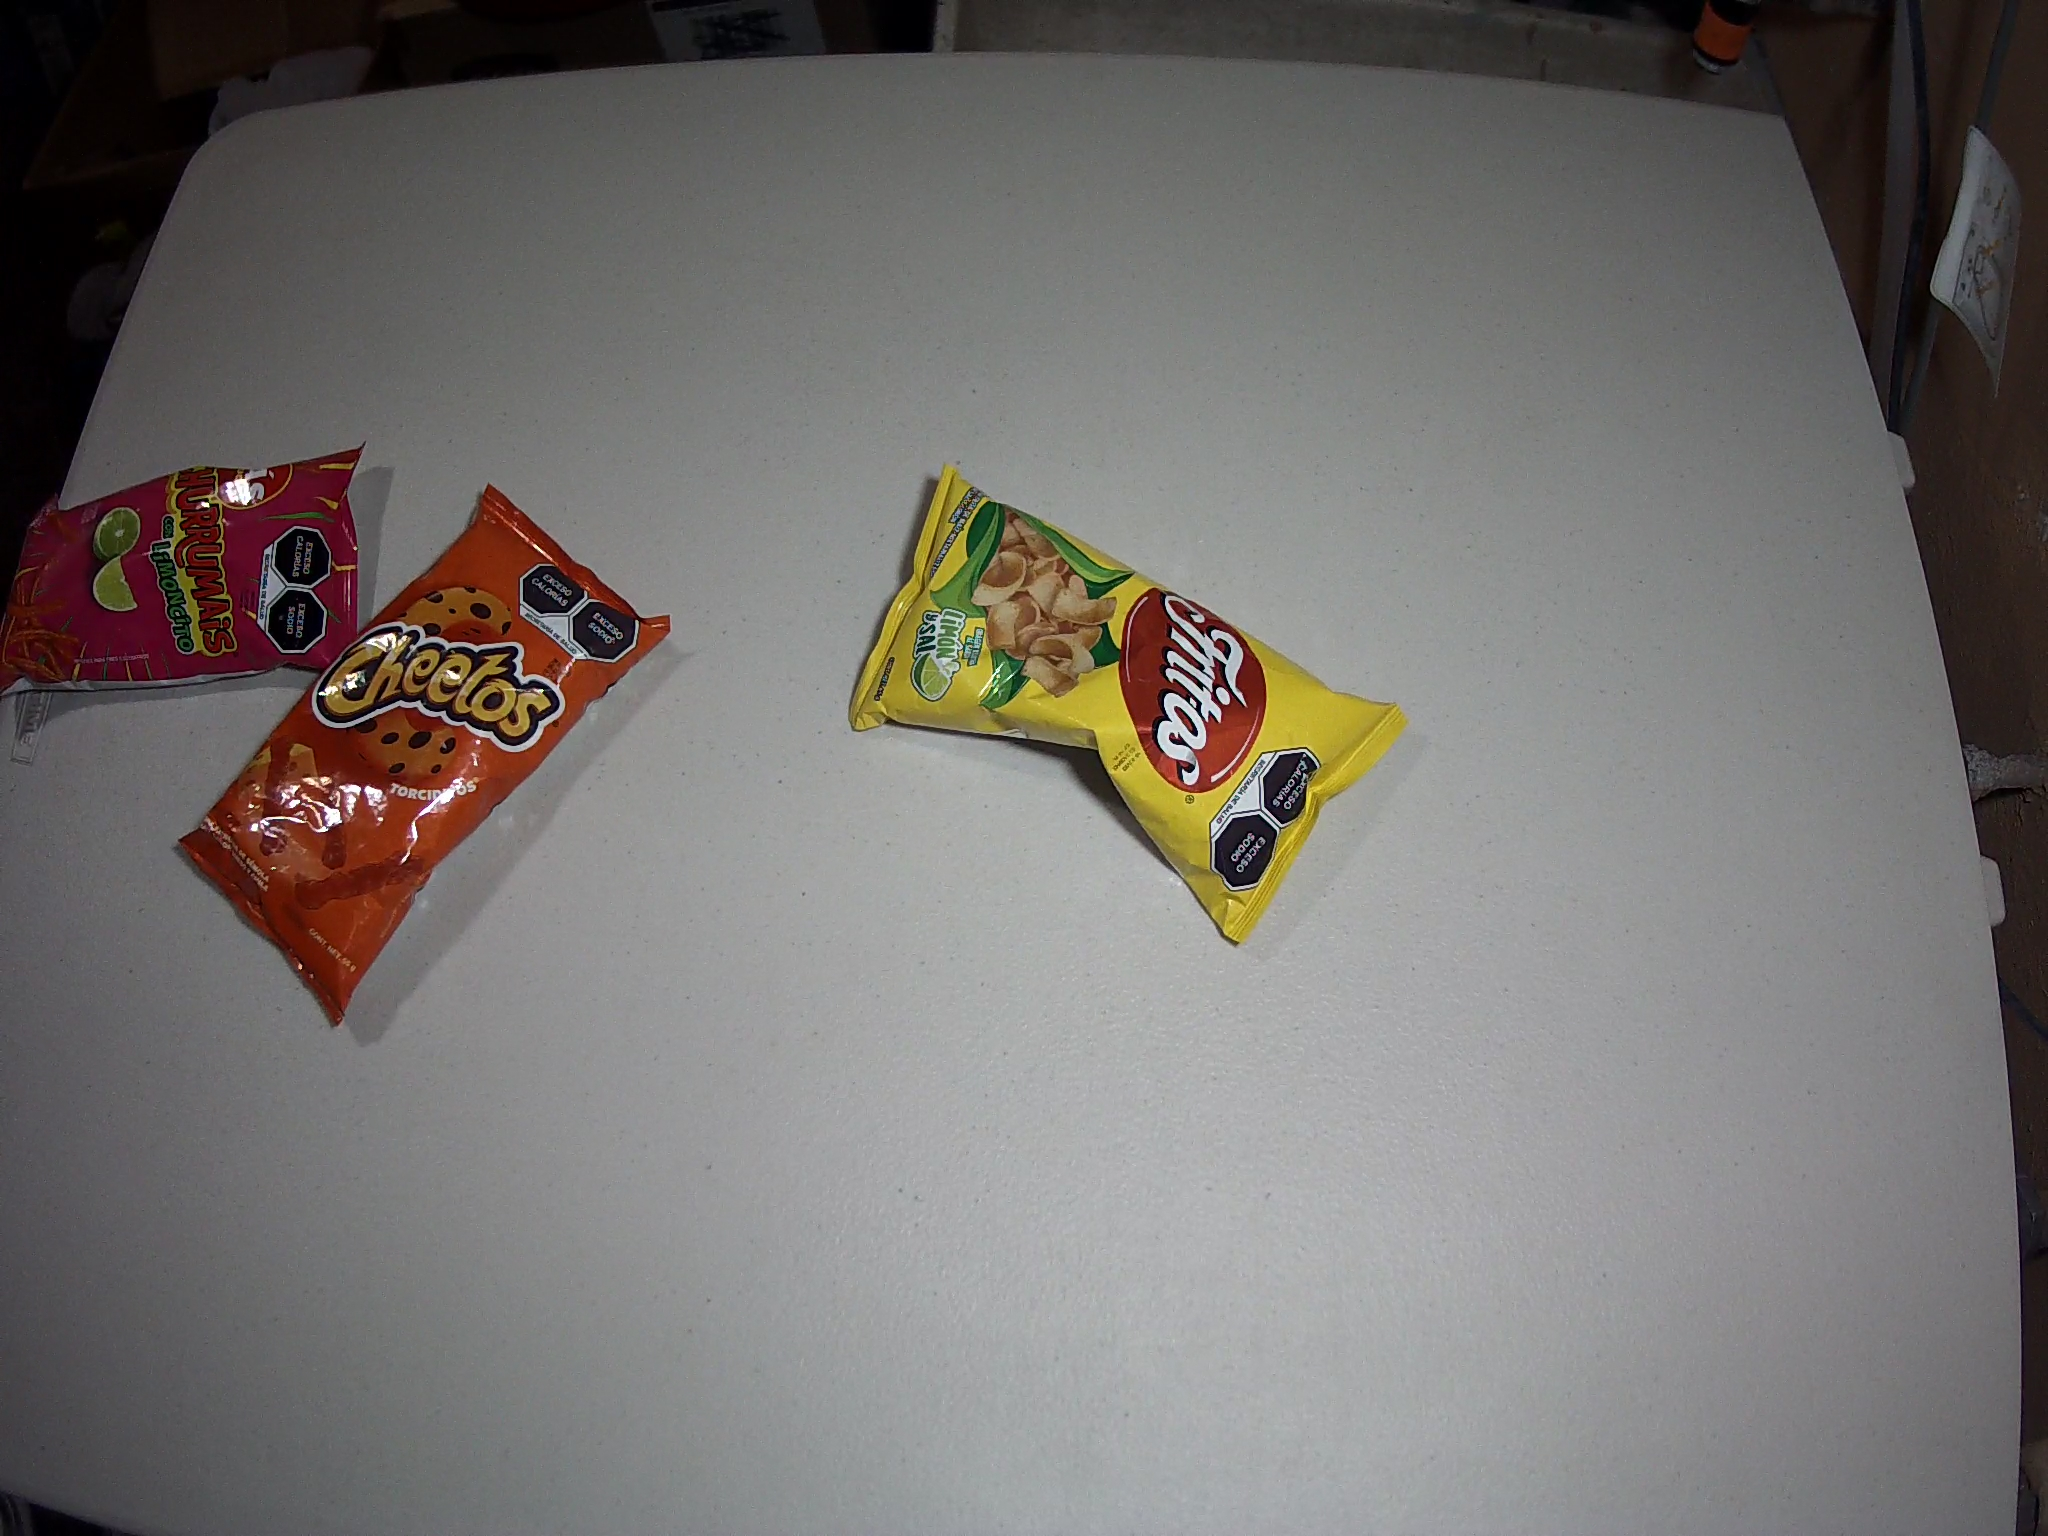CheetosTorciditos_55_F: (177, 484, 672, 1031)
Churrumais_70_F: (2, 445, 364, 700)
FritosSalLimon_65_F: (847, 461, 1413, 945)
